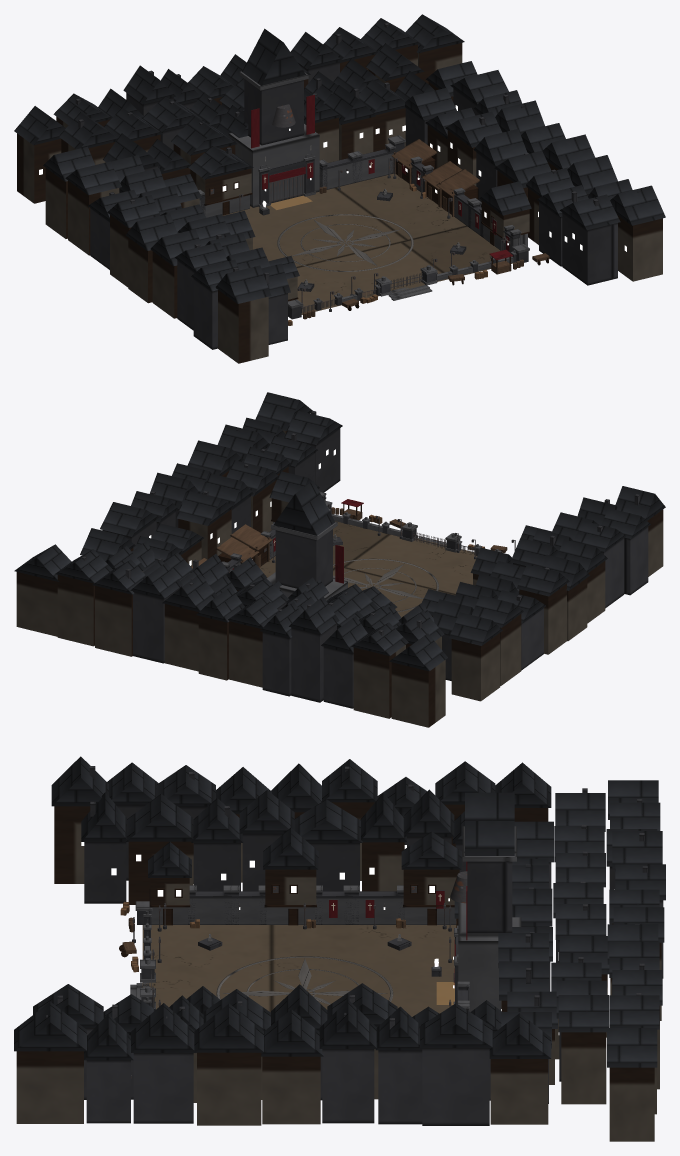
Rendered from town_boss_blackbell_01.glb.
3 views of the same model, one above another, from view 1: azimuth 30°, elevation 25°; view 2: azimuth 150°, elevation 25°; view 3: azimuth 270°, elevation 25° (orthographic). The views are drawn at different scales.
Visible parts, largest first — view 1: _MeshInstance3D_4053, _MeshInstance3D_4834, _MeshInstance3D_4568, _MeshInstance3D_4442, _MeshInstance3D_4835, _MeshInstance3D_4603, _MeshInstance3D_4837, _MeshInstance3D_4159, _MeshInstance3D_4415, _MeshInstance3D_4604, _MeshInstance3D_4438, _MeshInstance3D_4443 (+84 smaller); view 2: _MeshInstance3D_4053, _MeshInstance3D_4159, _MeshInstance3D_4835, _MeshInstance3D_4411, _MeshInstance3D_4162, _MeshInstance3D_4195, _MeshInstance3D_4168, _MeshInstance3D_4191, _MeshInstance3D_4198, _MeshInstance3D_4188, _MeshInstance3D_4183, _MeshInstance3D_4176 (+73 smaller); view 3: _MeshInstance3D_4053, _MeshInstance3D_4578, _MeshInstance3D_4603, _MeshInstance3D_4591, _MeshInstance3D_4594, _MeshInstance3D_4589, _MeshInstance3D_4586, _MeshInstance3D_4574, _MeshInstance3D_4198, _MeshInstance3D_4583, _MeshInstance3D_4157, _MeshInstance3D_4835 (+80 smaller).
Part boxes in pixels (x1,y1,x2,y2): _MeshInstance3D_4053: [222, 173, 512, 314]; _MeshInstance3D_4834: [228, 124, 319, 207]; _MeshInstance3D_4568: [562, 212, 617, 285]; _MeshInstance3D_4442: [218, 290, 268, 363]; _MeshInstance3D_4835: [244, 79, 303, 145]; _MeshInstance3D_4603: [617, 215, 662, 281]; _MeshInstance3D_4837: [242, 28, 305, 85]; _MeshInstance3D_4159: [17, 133, 61, 203]; _MeshInstance3D_4415: [68, 180, 119, 255]; _MeshInstance3D_4604: [610, 185, 665, 225]; _MeshInstance3D_4438: [193, 279, 217, 349]; _MeshInstance3D_4443: [215, 265, 271, 303]; _MeshInstance3D_4053: [260, 521, 477, 617]; _MeshInstance3D_4159: [391, 660, 445, 727]; _MeshInstance3D_4835: [275, 529, 332, 588]; _MeshInstance3D_4411: [451, 633, 500, 701]; _MeshInstance3D_4162: [353, 645, 405, 718]; _MeshInstance3D_4195: [57, 575, 94, 646]; _MeshInstance3D_4168: [291, 623, 336, 702]; _MeshInstance3D_4191: [95, 585, 132, 656]; _MeshInstance3D_4198: [16, 572, 57, 636]; _MeshInstance3D_4188: [133, 587, 180, 663]; _MeshInstance3D_4183: [164, 604, 198, 671]; _MeshInstance3D_4176: [229, 621, 262, 687]; _MeshInstance3D_4053: [142, 925, 456, 1016]; _MeshInstance3D_4578: [422, 1048, 489, 1125]; _MeshInstance3D_4603: [16, 1051, 83, 1123]; _MeshInstance3D_4591: [197, 1052, 261, 1125]; _MeshInstance3D_4594: [133, 1053, 193, 1123]; _MeshInstance3D_4589: [262, 1056, 320, 1124]; _MeshInstance3D_4586: [322, 1049, 374, 1123]; _MeshInstance3D_4574: [490, 1059, 548, 1124]; _MeshInstance3D_4198: [609, 1067, 654, 1141]; _MeshInstance3D_4583: [378, 1050, 422, 1124]; _MeshInstance3D_4157: [561, 1032, 606, 1104]; _MeshInstance3D_4835: [467, 861, 512, 933].
Size of what is drawn, in the model's own units: 74.18 by 25.2 by 72.28.
Materials: 17 (12 with a texture image).
